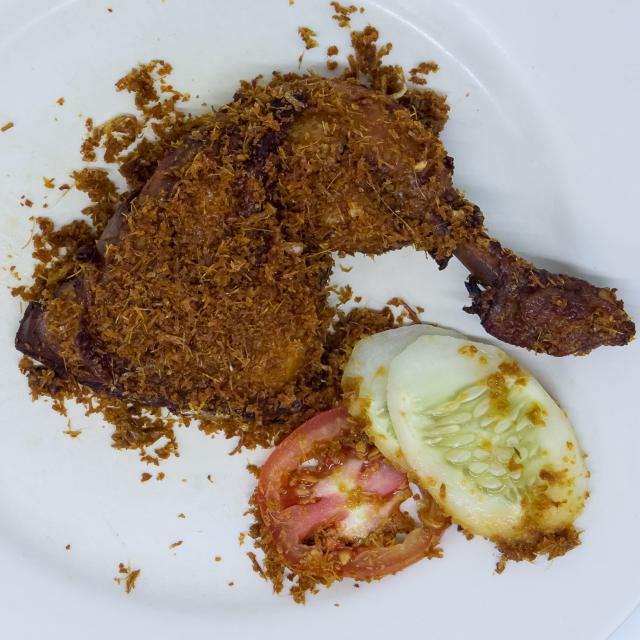Ayam-Goreng-Lengkuas: (11, 52, 634, 466)
